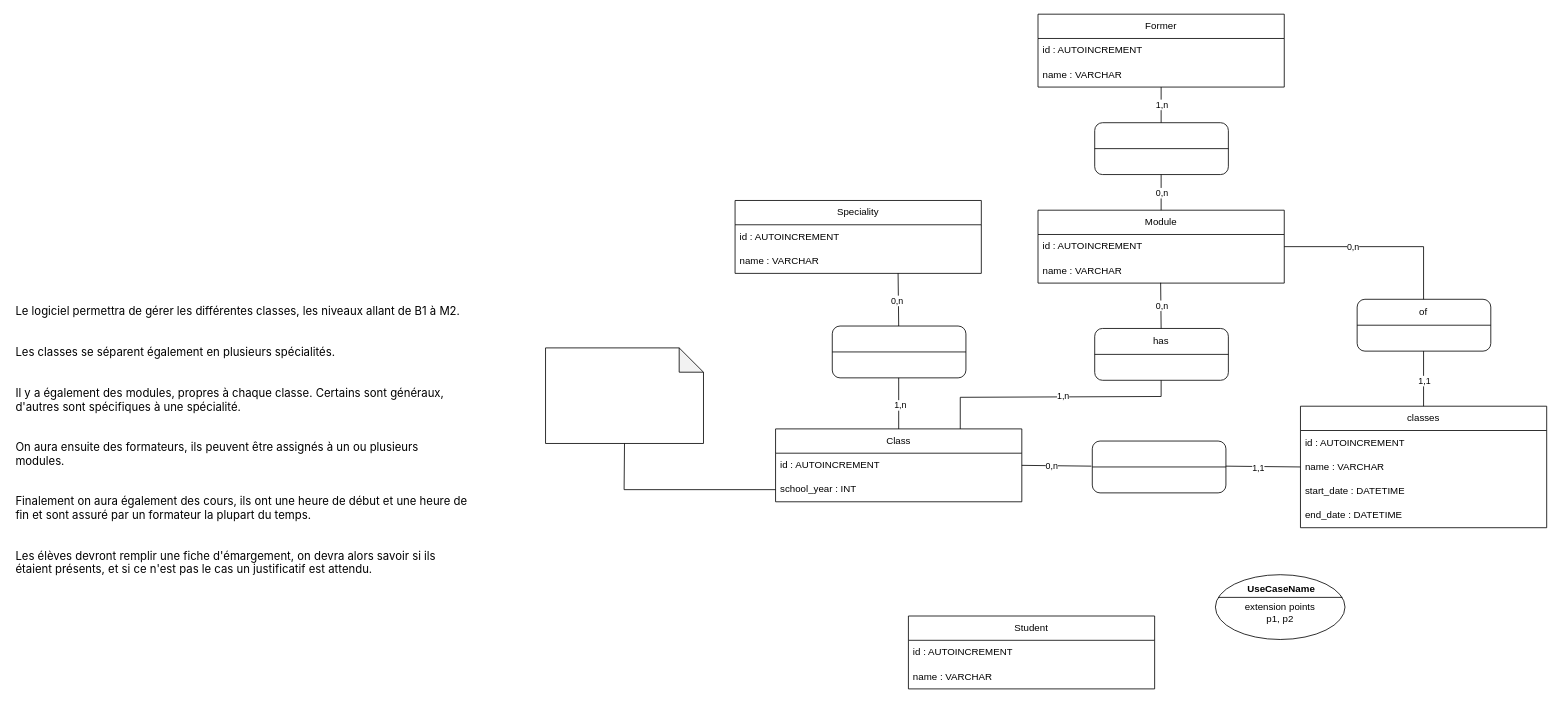
The diagram is 1561 pixels wide and 703 high, and some of its shapes have lost their labels. The centre of each missing label's shape, as x and y in pixels:
assists: the point at 1158,466
ENUM: CLASSE_NIVEAU B1 => 0 B2 => 1 B3 => 3 M1 => 4 M2 => 5: the point at 624,395
specialized_in: the point at 898,351
taught: the point at 1161,148
